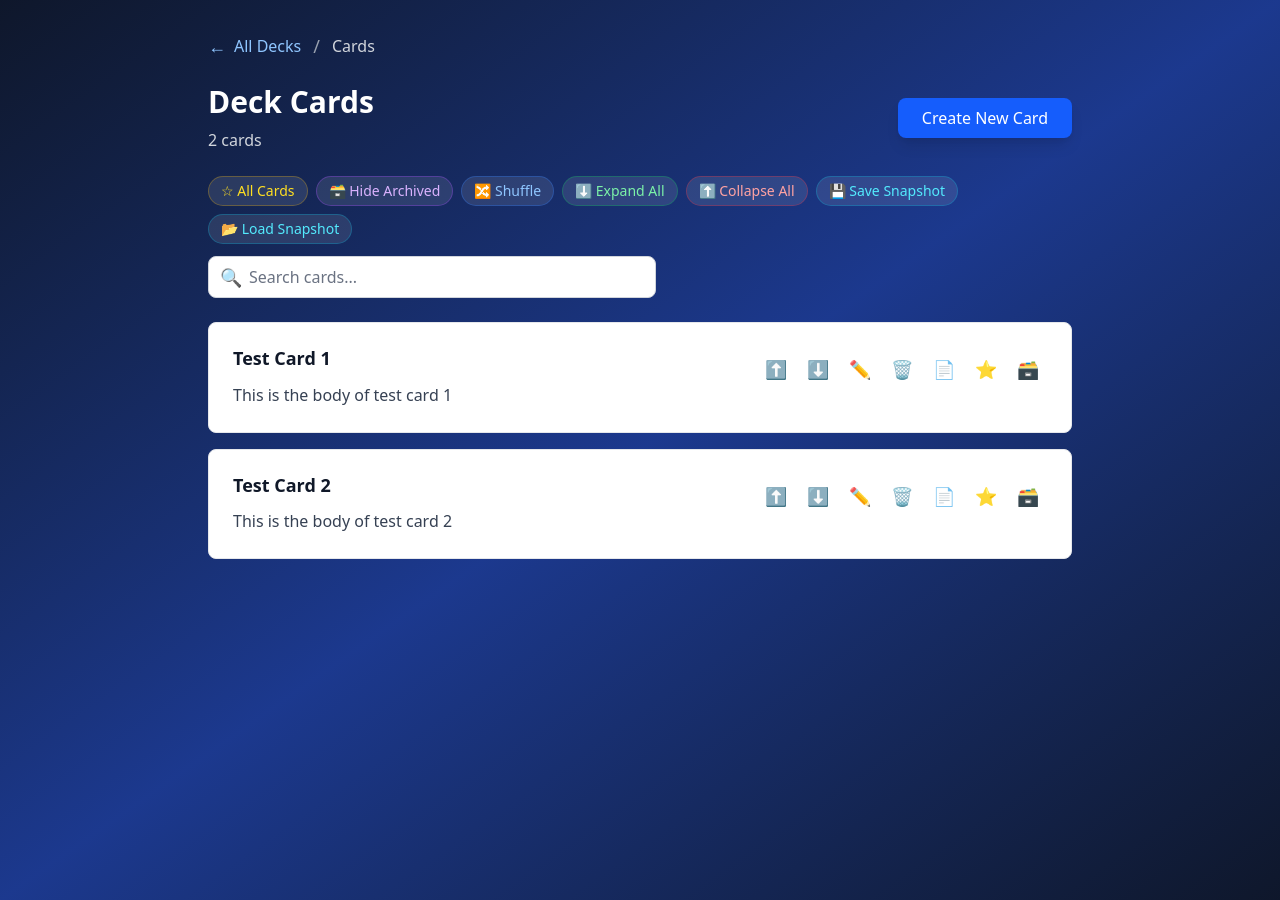
Test: CardScreen Component › Card Actions › should update card when edit form is submitted
This screenshot has width=1280, height=900.
Note: Directly find and click edit button (no async state change required)
Click the button named "edit card-1" at {"x": 860, "y": 369}, box [841,347,879,391]
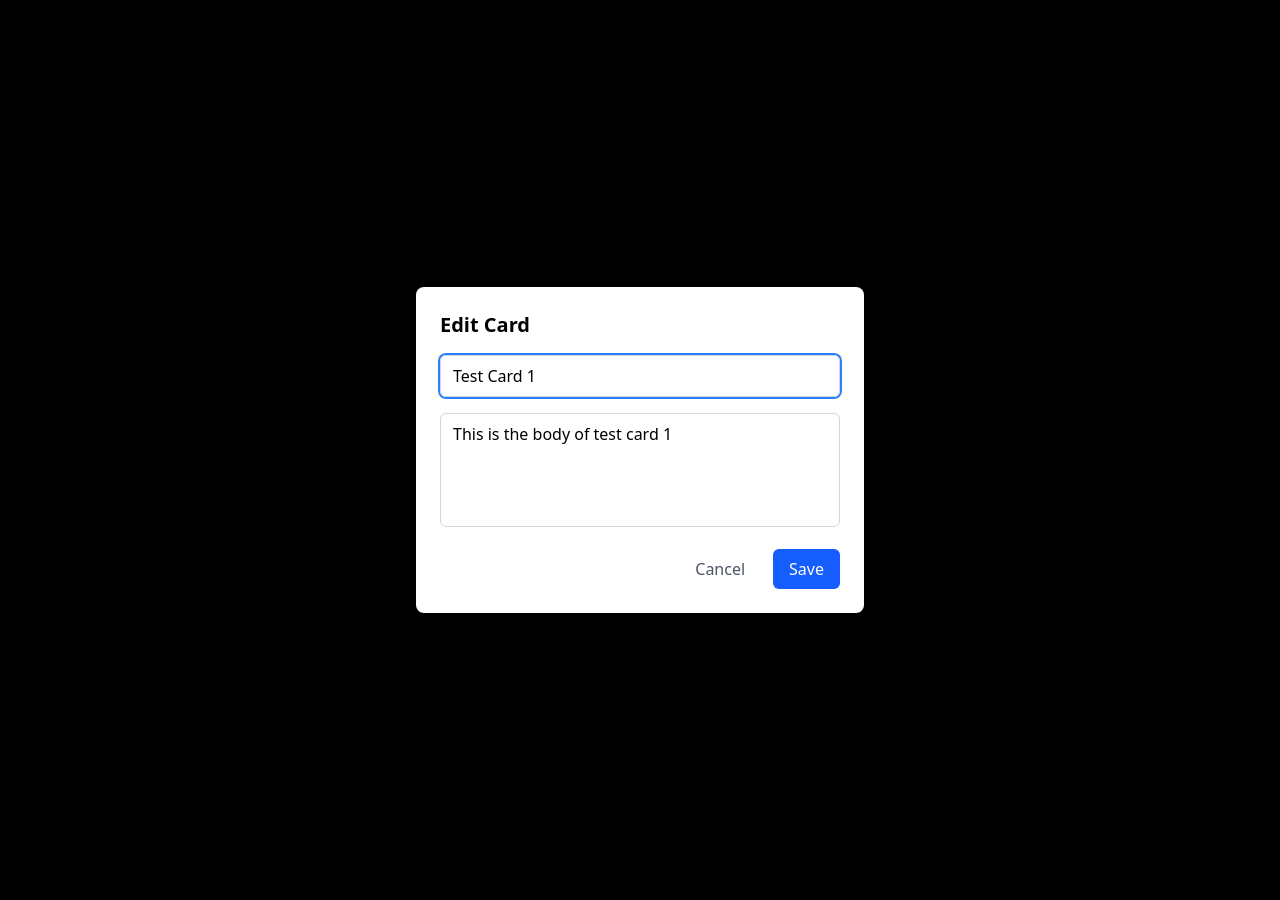
Replace the text in the field showing "Test Card 1" with "Updated Card Title" at {"x": 640, "y": 376}, box [440,355,840,397]
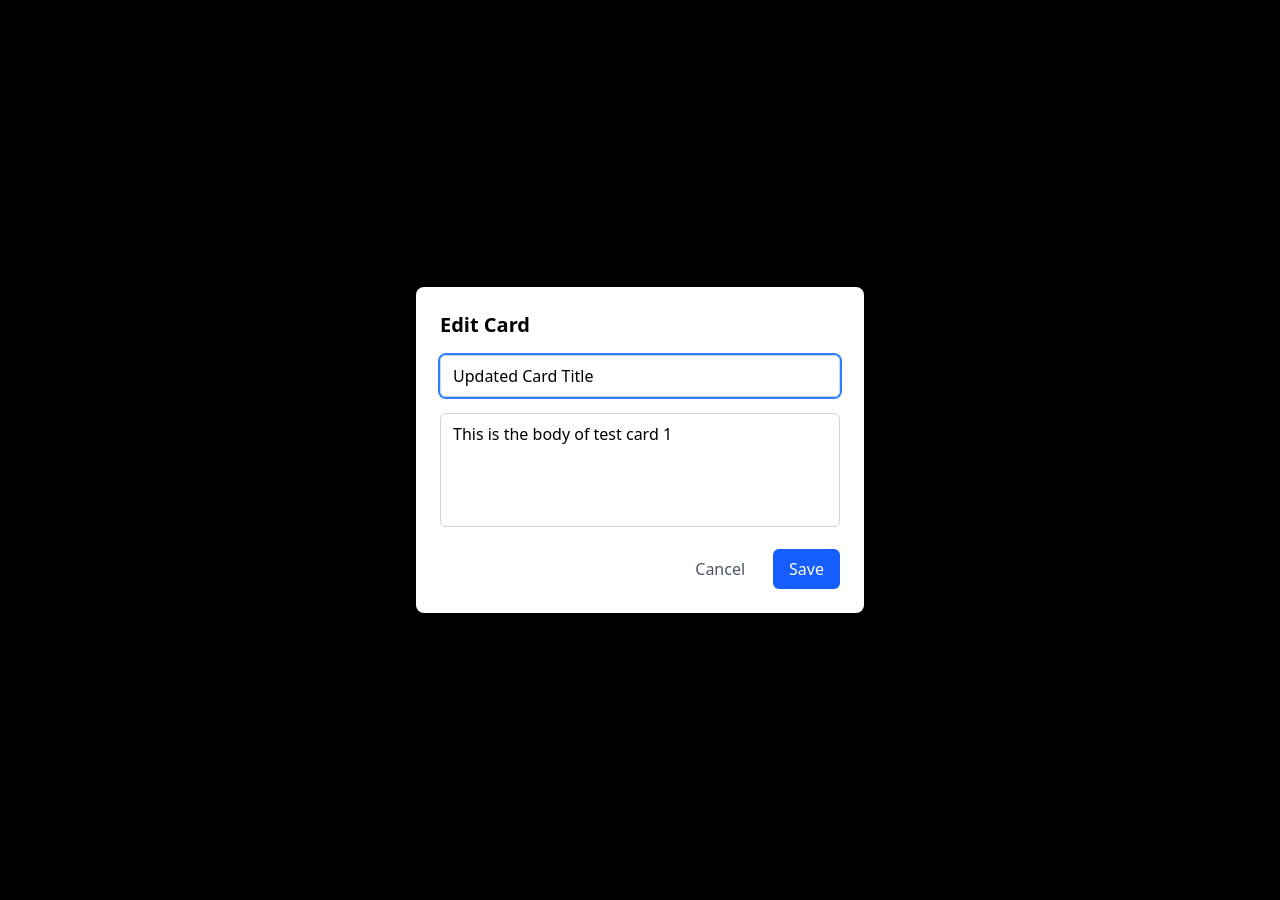
Note: Click submit and wait for async operations to complete
Click the button "Save" at {"x": 807, "y": 569}, box [773,549,840,589]
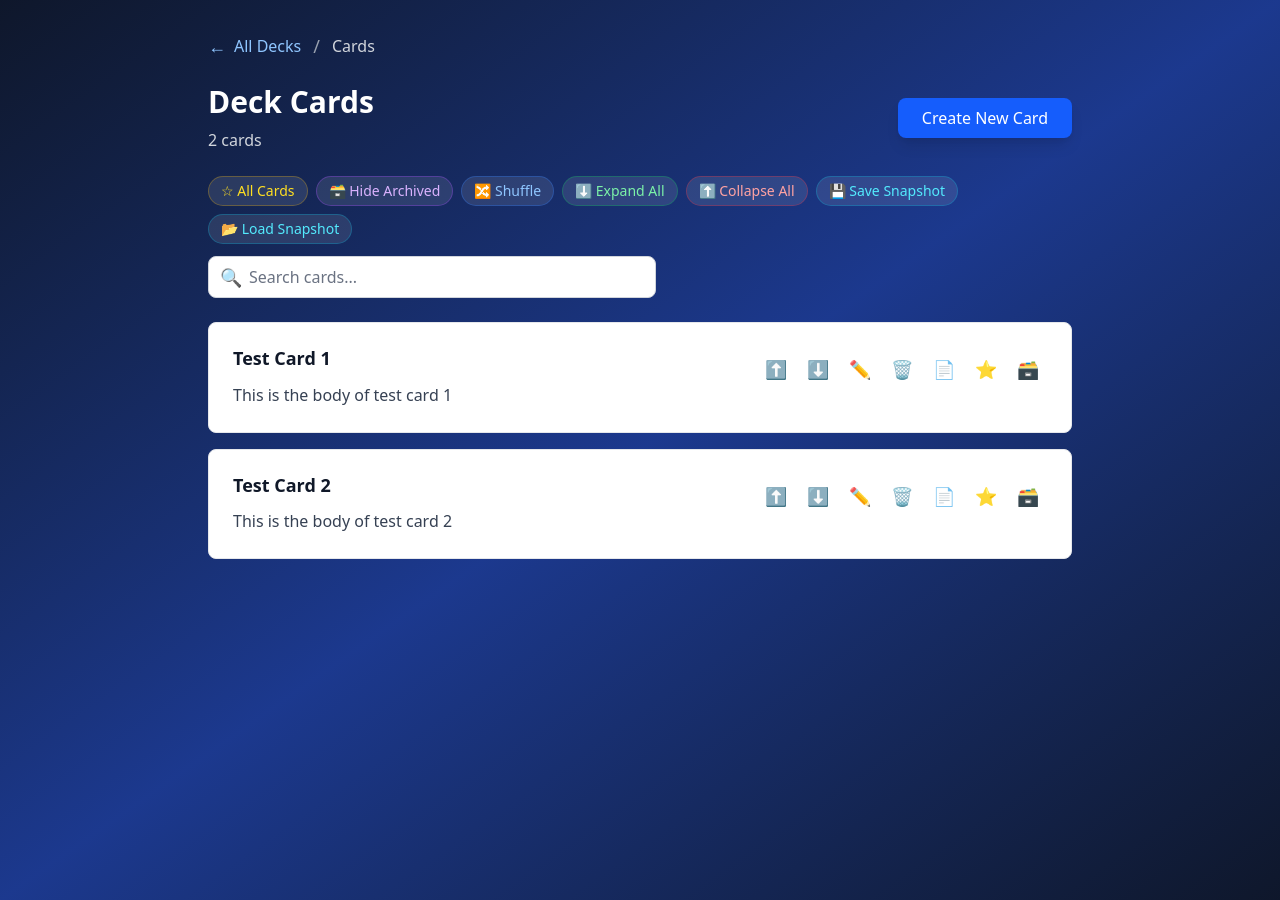
Check: the heading "Edit Card" is gone
